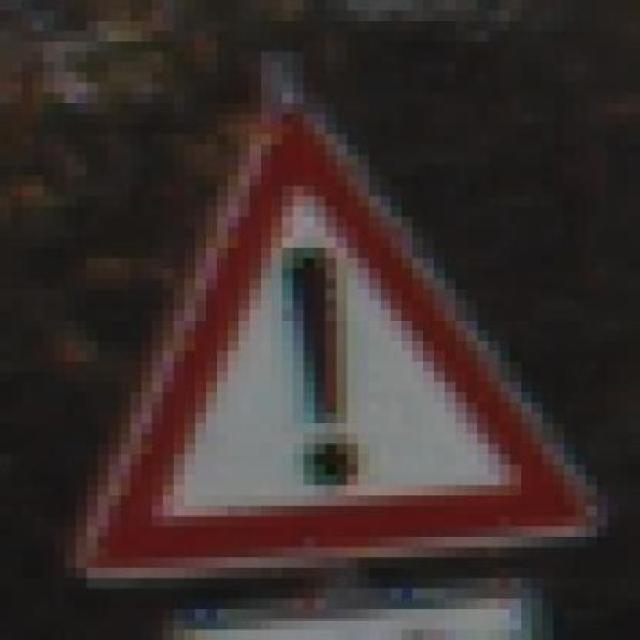Attention Please-: (54, 92, 608, 578)
